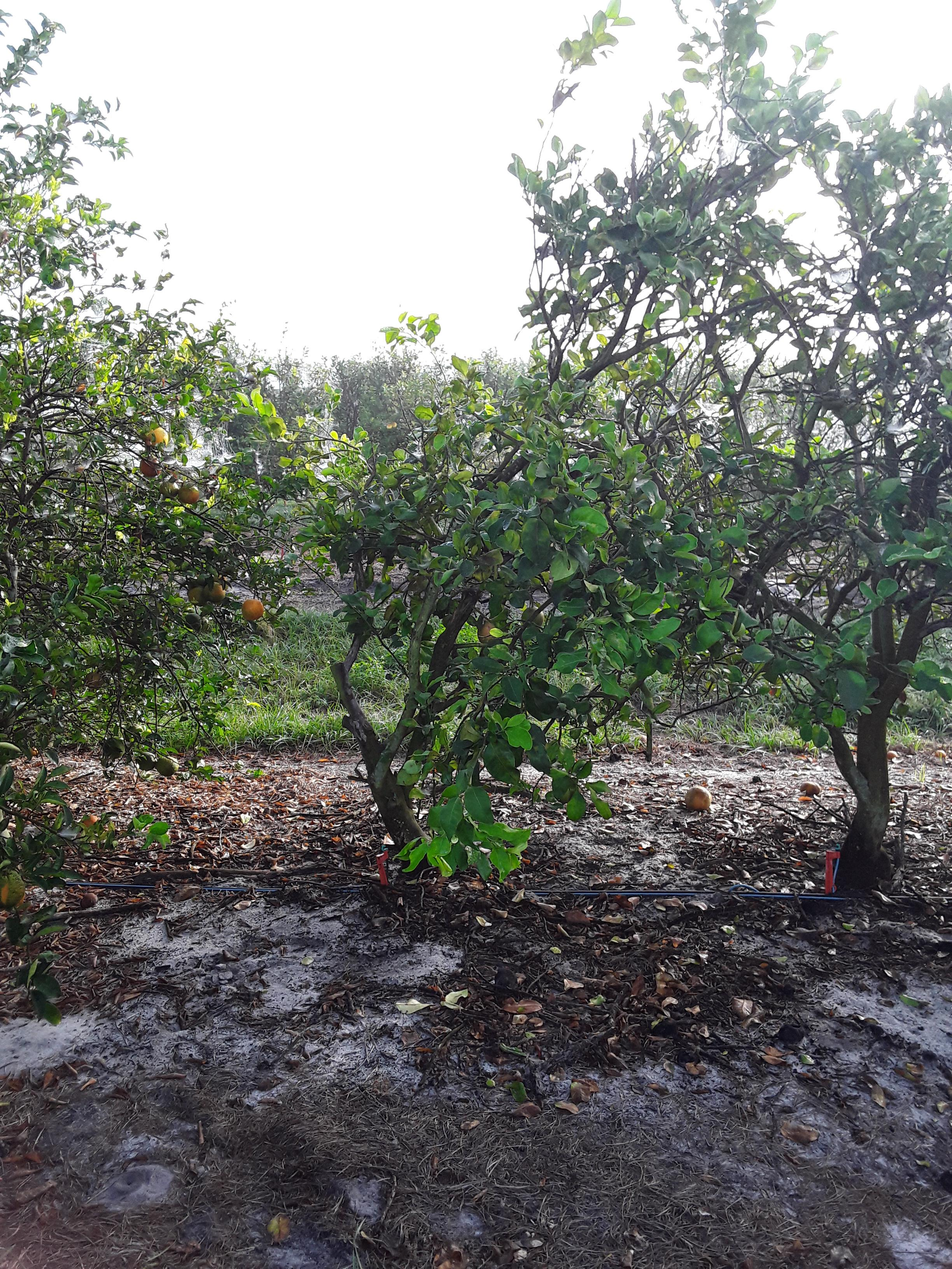fruit_on_ground: (0, 869, 30, 910), (475, 617, 504, 646), (239, 596, 267, 623), (142, 424, 172, 449), (520, 604, 547, 631), (101, 735, 128, 761), (138, 454, 163, 479), (175, 482, 202, 505), (154, 754, 179, 778), (202, 580, 226, 603), (186, 584, 209, 607), (135, 751, 158, 771), (159, 478, 180, 499), (183, 612, 203, 631)
fruit_on_tree: (682, 783, 714, 813), (76, 889, 99, 910), (798, 779, 823, 797), (80, 811, 101, 830), (795, 791, 817, 806)
